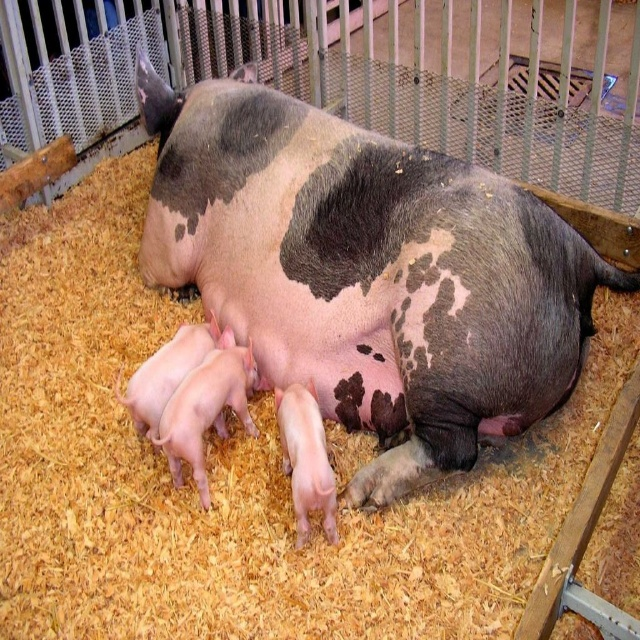Pig: (134, 39, 640, 556)
